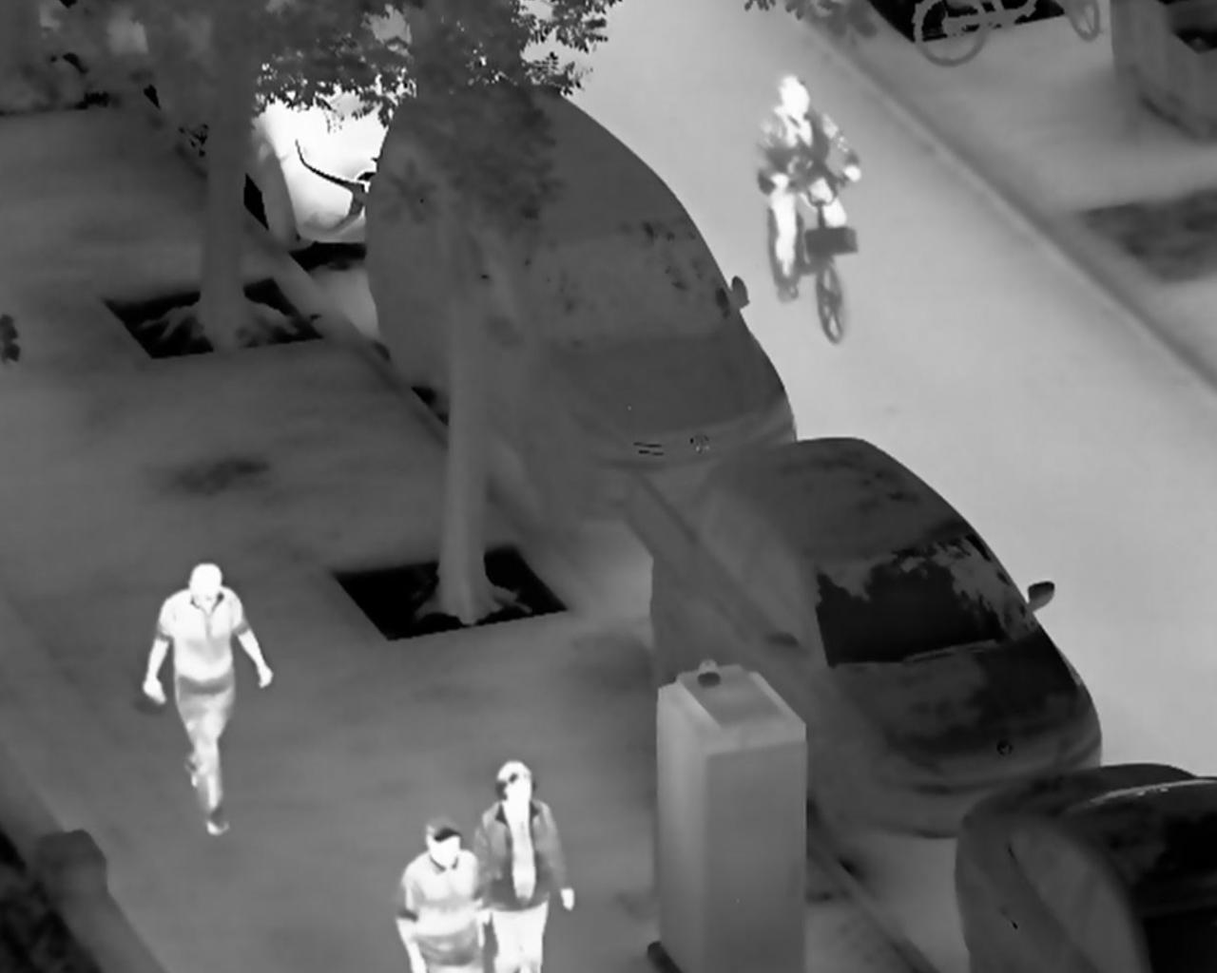person: (143, 562, 273, 838), (757, 73, 863, 300), (474, 757, 574, 973), (395, 817, 485, 973)
